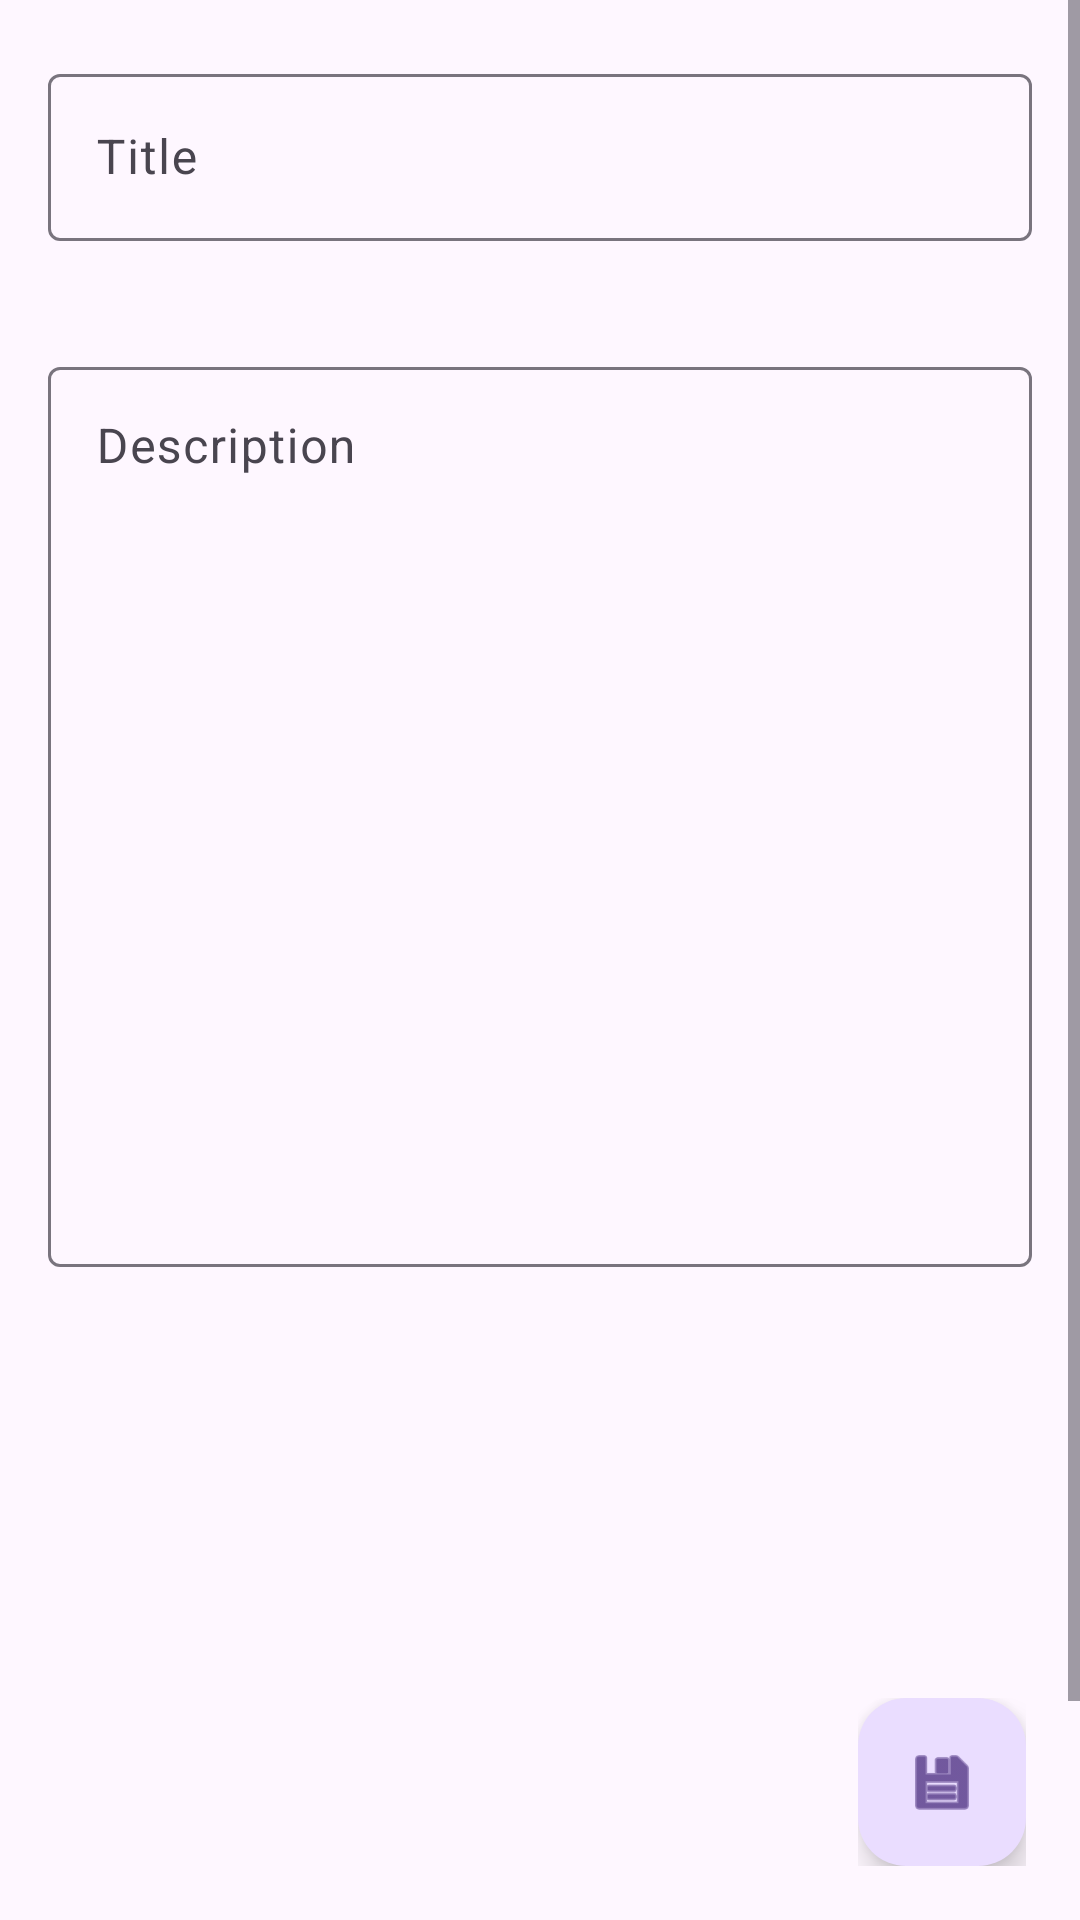

Icons on this 1080px×1920px Android screen, each with its box as (x1, y1, x2, y2):
Save: (858, 1698, 1026, 1866)
